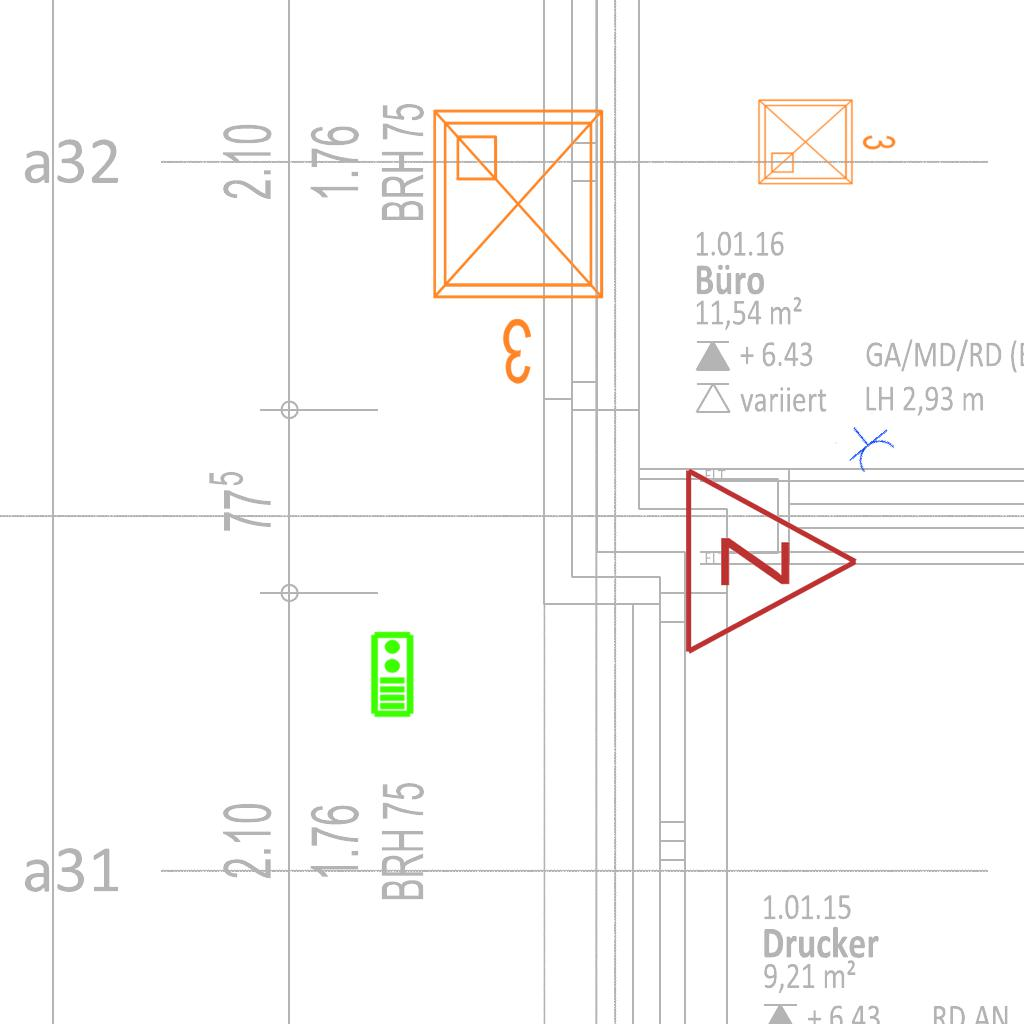Einbaudownlights_LED_Konferenzraeume: (418, 95, 626, 395), (751, 88, 901, 192)
Gegensprechanlage_mit_Video: (368, 630, 415, 718)
Schukosteckdose_einfach: (834, 412, 900, 477)
Zimmersignalleuchte: (671, 461, 871, 657)
